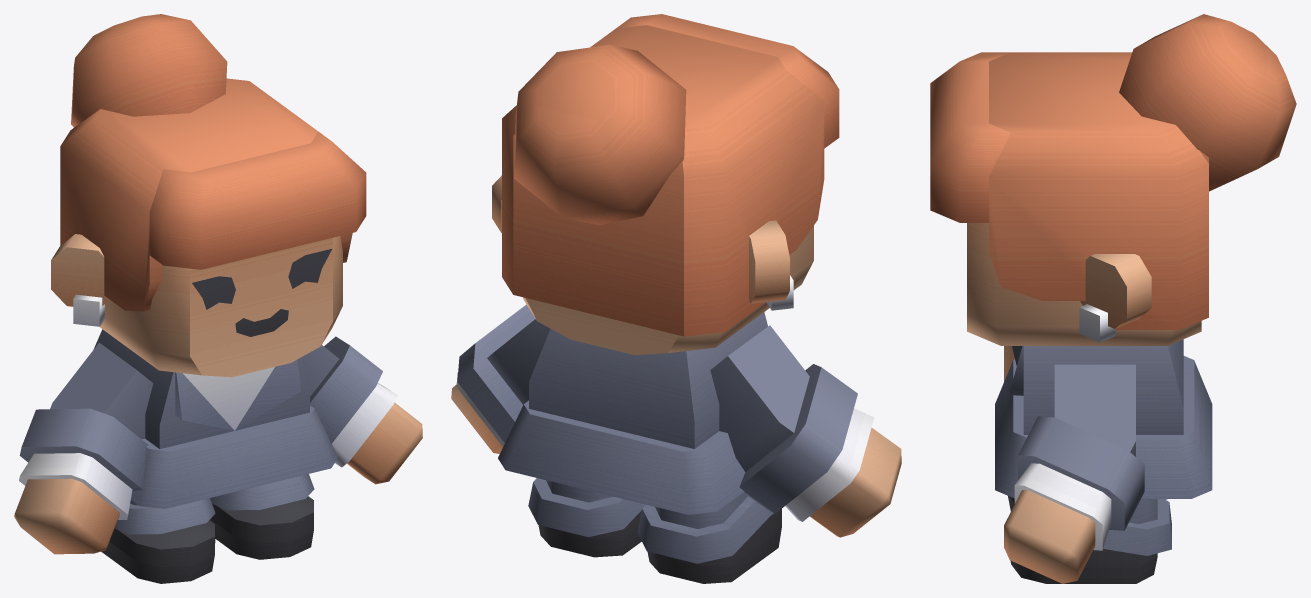
File: character-female-d.glb
3 renders of one model, left to right at view 1: azimuth 30°, elevation 25°; view 2: azimuth 150°, elevation 25°; view 3: azimuth 270°, elevation 25°, orthographic. The views are drawn at different scales.
Parts seen in each view (by area): view 1: body-mesh; view 2: body-mesh; view 3: body-mesh.
Part boxes in pixels (x1,y1,x2,y2): body-mesh: (14, 14, 422, 583); body-mesh: (451, 14, 901, 583); body-mesh: (930, 14, 1296, 583).
Bounding box in the file's own units: 1.59 × 1.86 × 1.2.
1 material, 1 textured.
